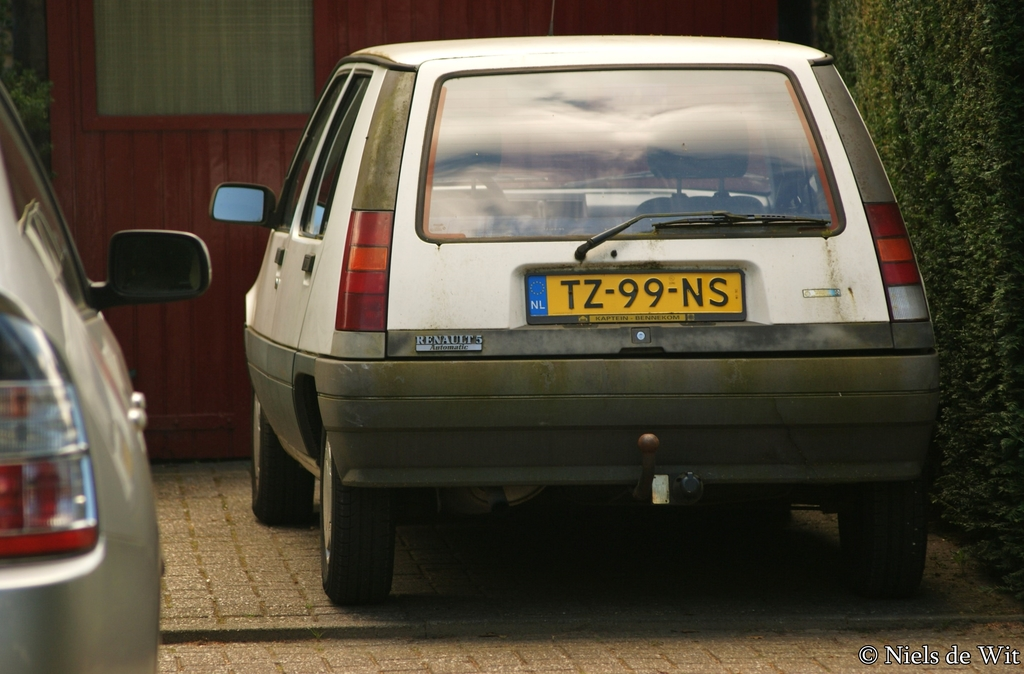Car: (224, 15, 948, 622), (0, 66, 215, 673)
